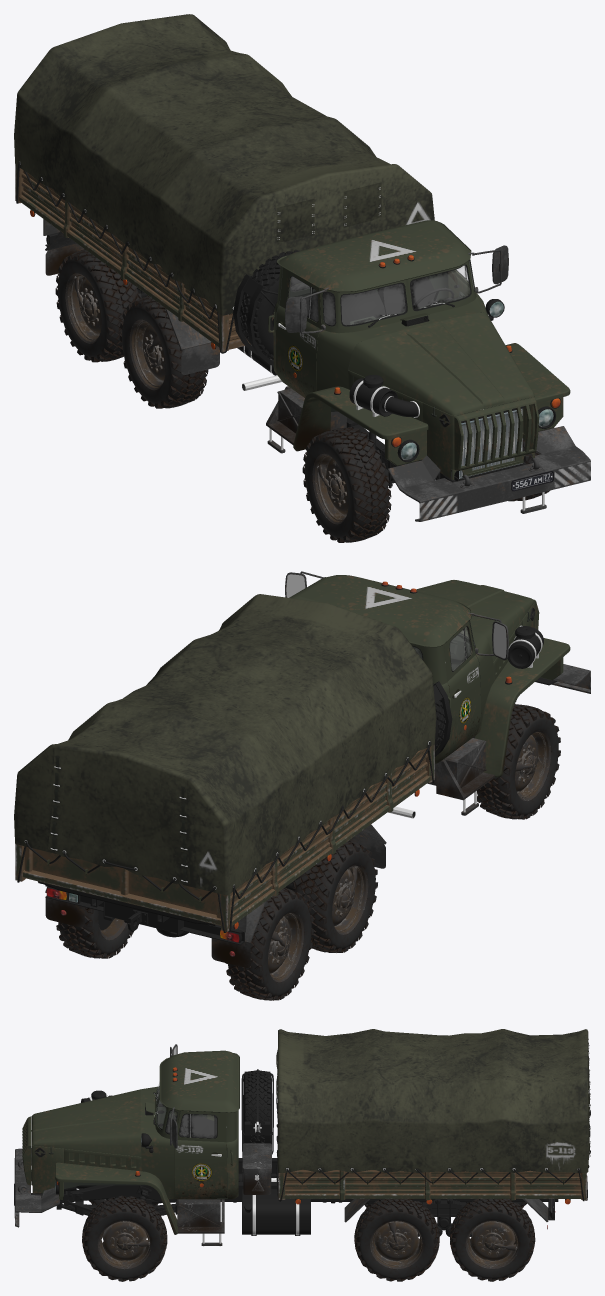
The model's file is truck.glb.
The picture shows the model from 3 angles, top to bottom: view 1: azimuth 30°, elevation 25°; view 2: azimuth 150°, elevation 25°; view 3: azimuth 270°, elevation 25°; orthographic projection. The views are drawn at different scales.
Visible parts, largest first — view 1: Tent, Wheel, Hood, Roof, Body front, Bump, Cargo trunk, Body, Windows, Interior.003, Grile, Door (+13 smaller); view 2: Tent, Wheel, Cargo trunk, Roof, Cargo door, Body front, Hood, MudGuard, Door, Frame, Body, Box (+10 smaller); view 3: Tent, Wheel, Cargo trunk, Hood, Roof, Body front, Door, Body, Tank fuel, Frame, Wheel_spare, Box.001 (+12 smaller).
Boxes of the visible parts, bbox=[...] form: Tent: bbox=[14, 14, 434, 315]; Wheel: bbox=[55, 249, 553, 542]; Hood: bbox=[348, 312, 534, 415]; Roof: bbox=[277, 220, 471, 292]; Body front: bbox=[293, 343, 570, 479]; Bump: bbox=[387, 426, 590, 521]; Cargo trunk: bbox=[15, 165, 273, 351]; Body: bbox=[273, 260, 488, 397]; Windows: bbox=[289, 261, 474, 324]; Interior.003: bbox=[305, 277, 467, 325]; Grile: bbox=[454, 397, 539, 470]; Door: bbox=[276, 267, 321, 397]; Tent: bbox=[14, 594, 436, 895]; Wheel: bbox=[56, 704, 560, 1000]; Cargo trunk: bbox=[15, 744, 434, 931]; Roof: bbox=[289, 575, 471, 647]; Cargo door: bbox=[22, 847, 220, 925]; Body front: bbox=[474, 602, 570, 777]; Hood: bbox=[416, 580, 534, 662]; MudGuard: bbox=[45, 824, 386, 967]; Door: bbox=[444, 621, 480, 758]; Frame: bbox=[45, 677, 557, 945]; Body: bbox=[410, 620, 493, 763]; Box: bbox=[427, 738, 486, 788]; Tent: bbox=[276, 1029, 590, 1172]; Wheel: bbox=[82, 1195, 535, 1281]; Cargo trunk: bbox=[278, 1169, 586, 1200]; Hood: bbox=[31, 1089, 141, 1156]; Roof: bbox=[159, 1050, 239, 1112]; Body front: bbox=[31, 1145, 177, 1234]; Door: bbox=[174, 1110, 227, 1198]; Body: bbox=[140, 1086, 238, 1199]; Tank fuel: bbox=[242, 1189, 310, 1235]; Frame: bbox=[17, 1158, 558, 1220]; Wheel_spare: bbox=[243, 1070, 271, 1144]; Box.001: bbox=[242, 1143, 271, 1194].
Bounding box in the file's own units: 2.63 × 3 × 7.9.
Materials: 18 (10 with a texture image).
